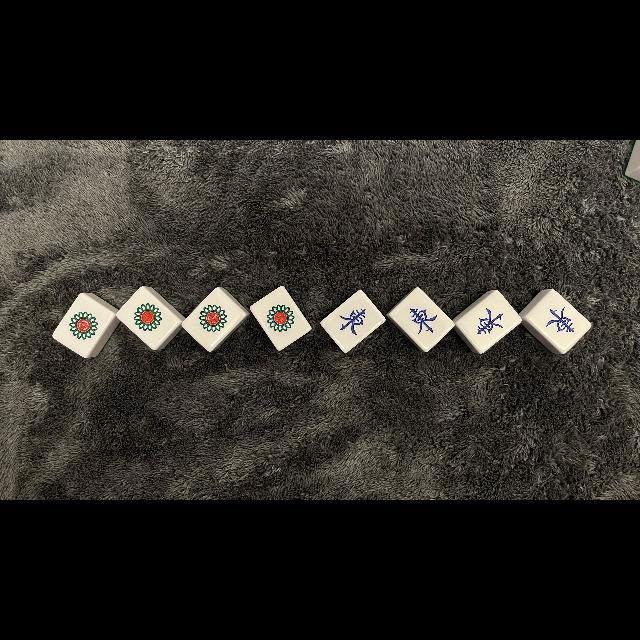d1: (127, 296, 171, 340), (260, 294, 300, 342), (62, 302, 105, 346), (193, 298, 235, 342)
we: (399, 297, 446, 343), (540, 298, 584, 344), (468, 300, 512, 342), (332, 298, 373, 342)
